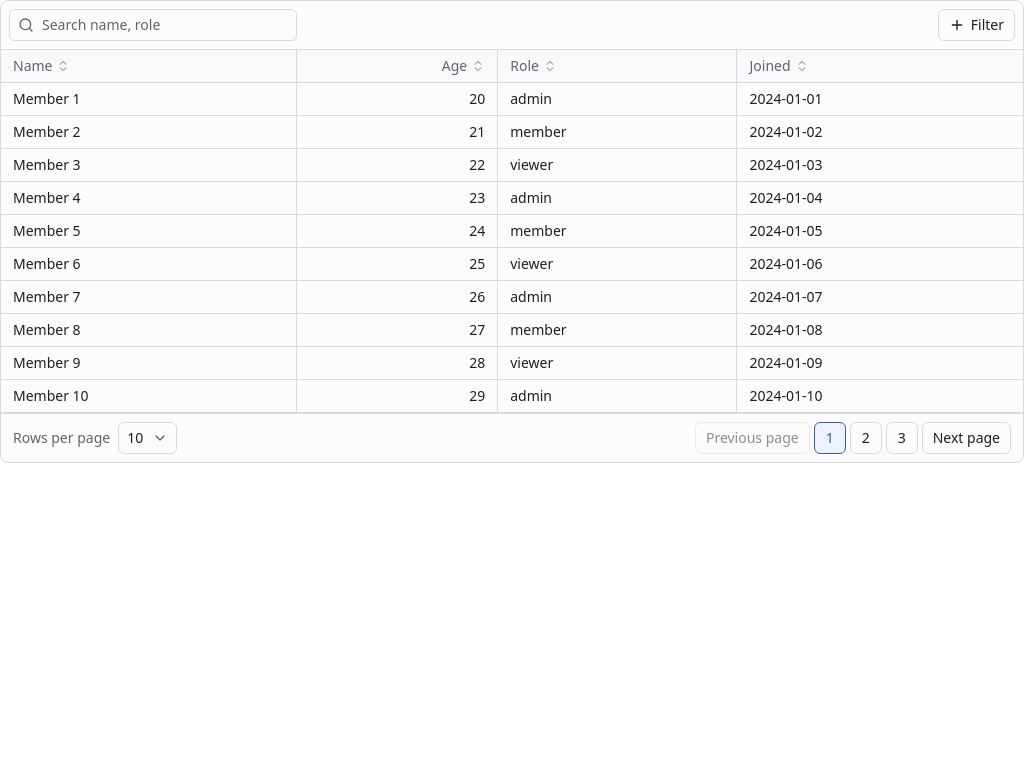
it: Table advanced search › adding filters › narrows the column list as you type in its search box
This screenshot has width=1024, height=768.
Check: the text "Member 1" is shown, box [1, 83, 297, 116]
Click the button with aria-label "Add filter" at [976, 25], box [938, 9, 1015, 41]
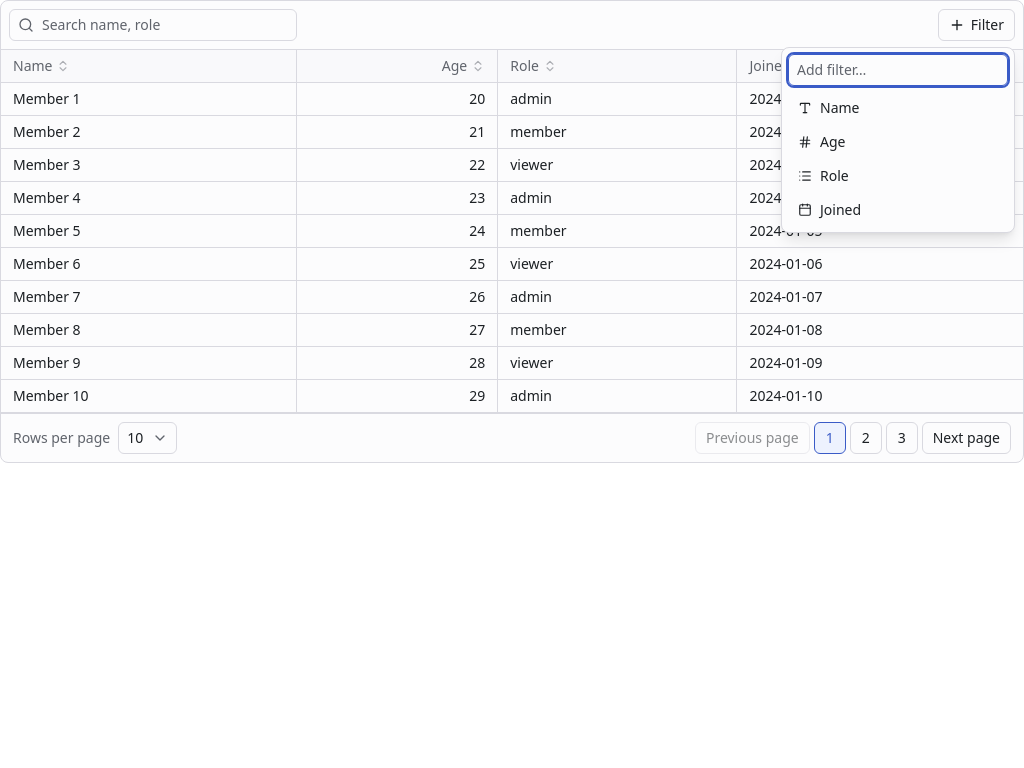
Type "ro" into the search field named "Search columns" at [898, 70], box [797, 60, 999, 80]
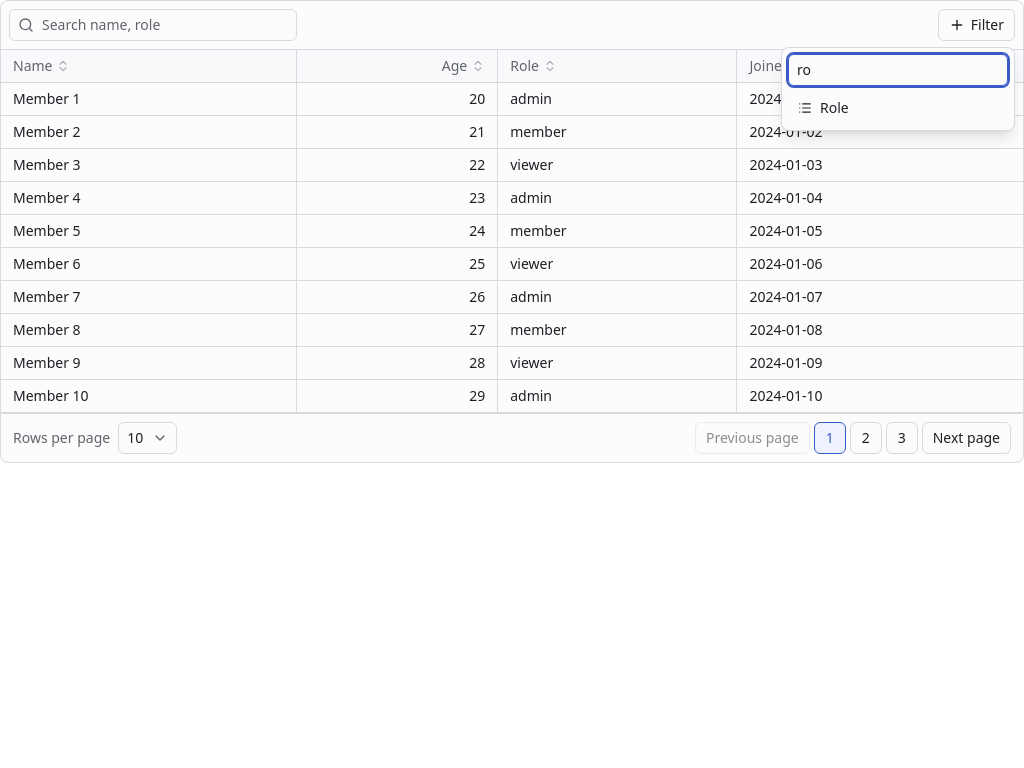
Check: the buttons read "Role", in this order, box [788, 92, 1008, 124]
Replace the text in the search field named "Search columns" with "zzz" at [898, 70], box [797, 60, 999, 80]
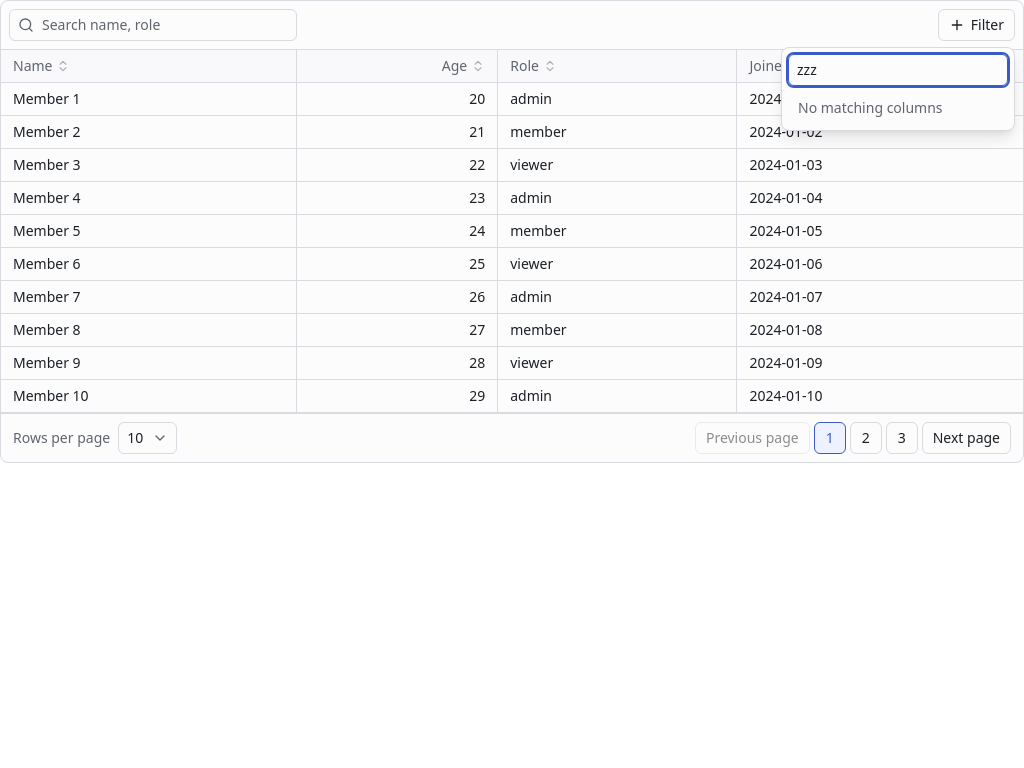
Check: the text "No matching columns" is shown, box [798, 98, 942, 117]
